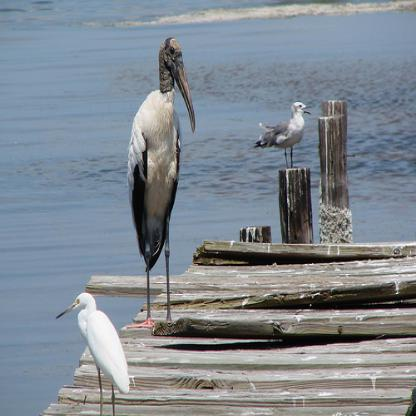bird: (126, 34, 196, 328), (53, 288, 129, 415), (253, 97, 312, 168)
